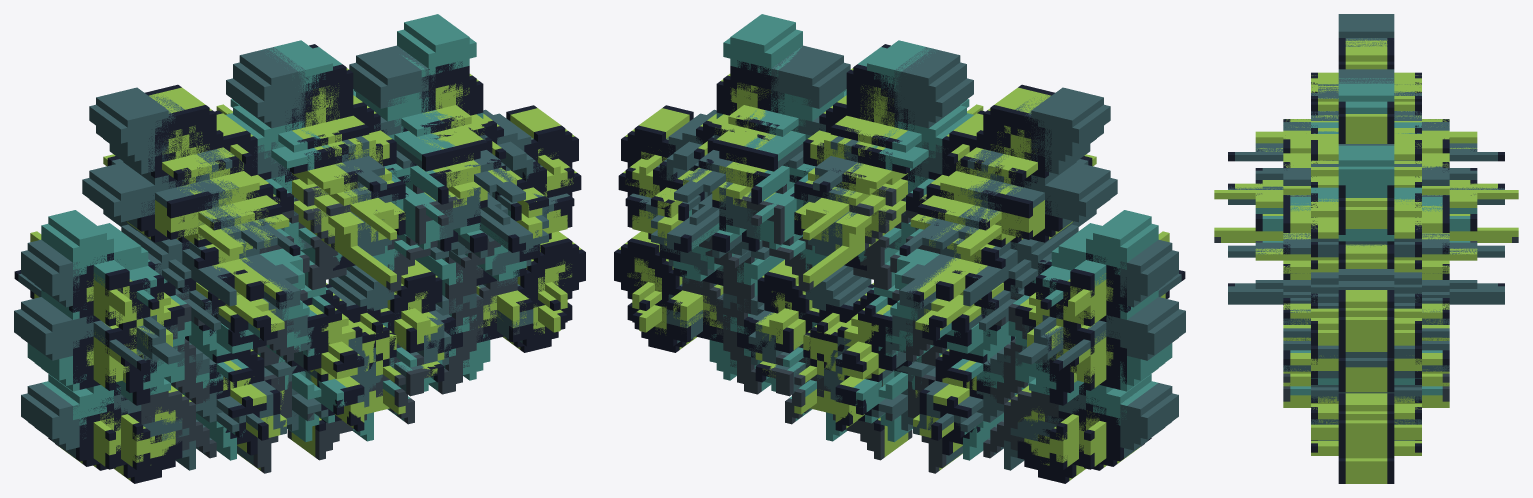
Rendered from Bushe3.glb.
The picture shows the model from 3 angles, left to right: view 1: azimuth 30°, elevation 25°; view 2: azimuth 150°, elevation 25°; view 3: azimuth 270°, elevation 25°; orthographic projection. The views are drawn at different scales.
Visible parts, largest first — view 1: q0, q2, q6, q3, q5, q1, q4, q7; view 2: q0, q2, q6, q3, q5, q1, q4, q7; view 3: q2, q0, q3, q5, q6, q4, q7.
Part boxes in pixels (x1,y1,x2,y2): q0: (14,17,578,483); q2: (28,16,581,465); q6: (82,19,574,482); q3: (14,14,578,477); q5: (59,134,585,467); q1: (14,135,571,477); q4: (103,70,567,369); q7: (94,73,574,440); q0: (621,19,1185,483); q2: (618,16,1171,475); q6: (627,19,1119,479); q3: (621,14,1185,480); q5: (614,134,1140,467); q1: (626,135,1185,477); q4: (632,69,1096,369); q7: (622,72,1105,441); q2: (1228,22,1504,483); q0: (1214,17,1518,458); q3: (1228,78,1504,455); q5: (1214,152,1517,477); q6: (1214,14,1516,440); q4: (1228,111,1504,402); q7: (1259,122,1449,439).
Size of the model in its own units: 79 by 55 by 44.
Materials: 1 (1 with a texture image).
